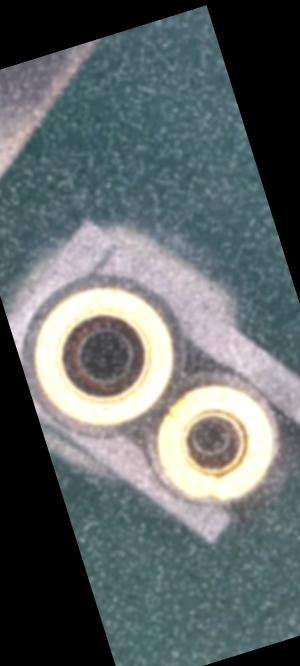bump: (158, 389, 197, 424), (196, 486, 225, 507)
